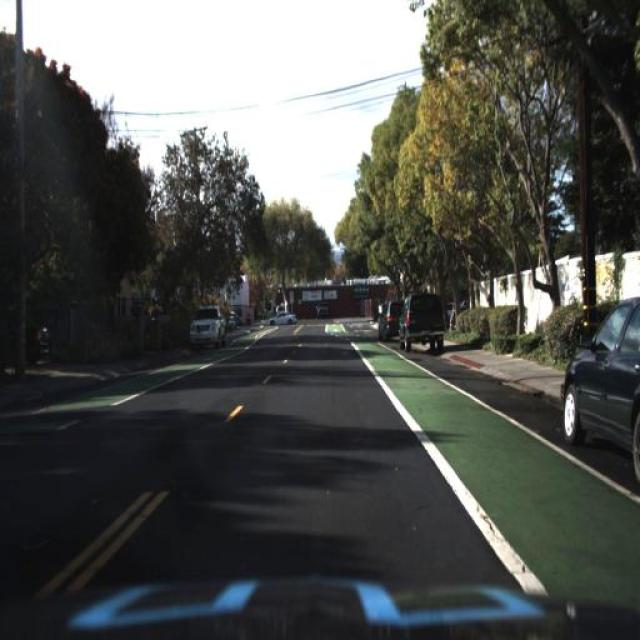car: (560, 298, 640, 488), (0, 311, 52, 378), (398, 284, 448, 352), (188, 302, 228, 349), (376, 292, 406, 344), (268, 302, 298, 327)
